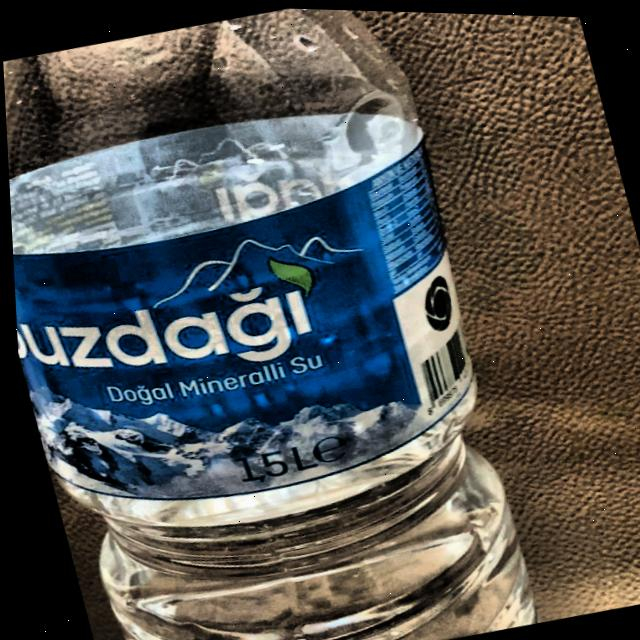plastic: (2, 7, 538, 640)
